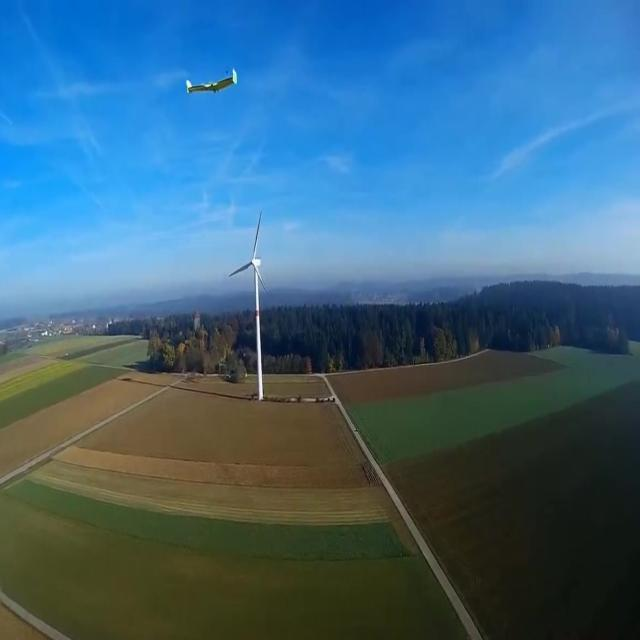iha: (185, 3, 237, 32)
